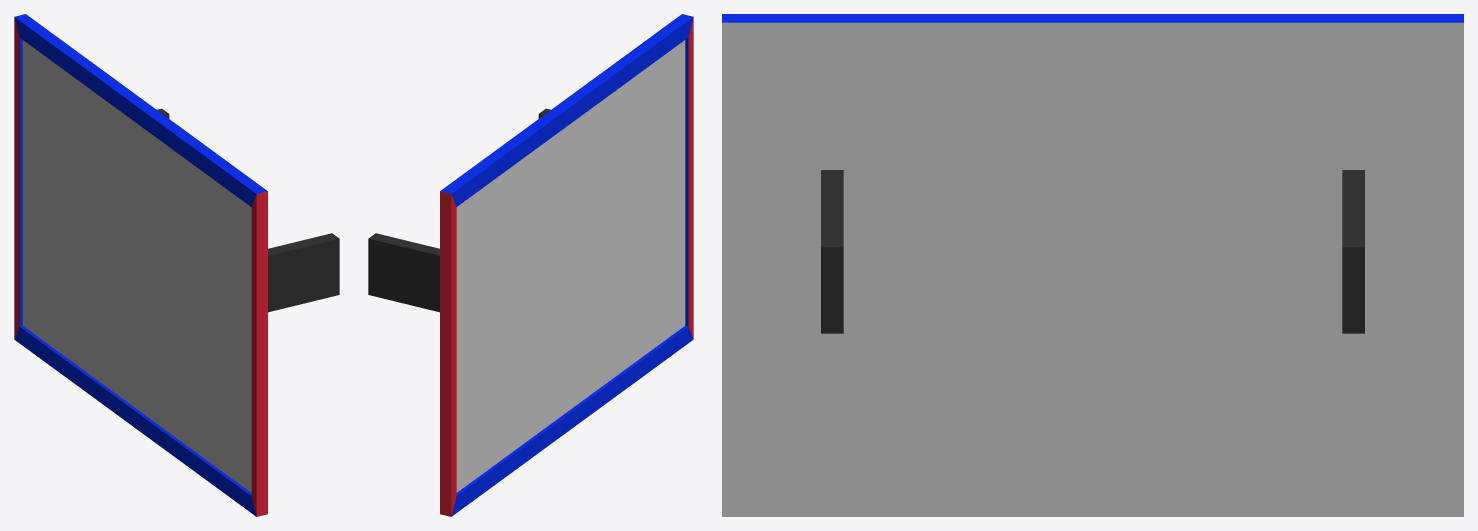
File: StandsShield (3).fbx
The picture shows the model from 3 angles, left to right: view 1: azimuth 30°, elevation 25°; view 2: azimuth 150°, elevation 25°; view 3: azimuth 270°, elevation 25°; orthographic projection. The views are drawn at different scales.
Visible parts, largest first — view 1: кольцо; view 2: кольцо; view 3: кольцо.
Boxes of the visible parts, x1,y1,x2,y2 form: кольцо: (14, 14, 339, 516); кольцо: (368, 14, 693, 516); кольцо: (722, 14, 1463, 516).
Bounding box in the file's own units: 135 × 362 × 492.
